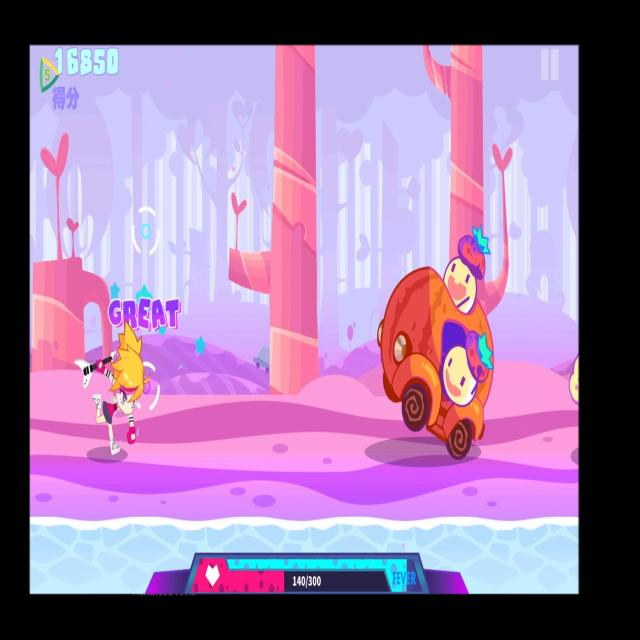Boss-Pumpkin: (375, 222, 495, 467)
